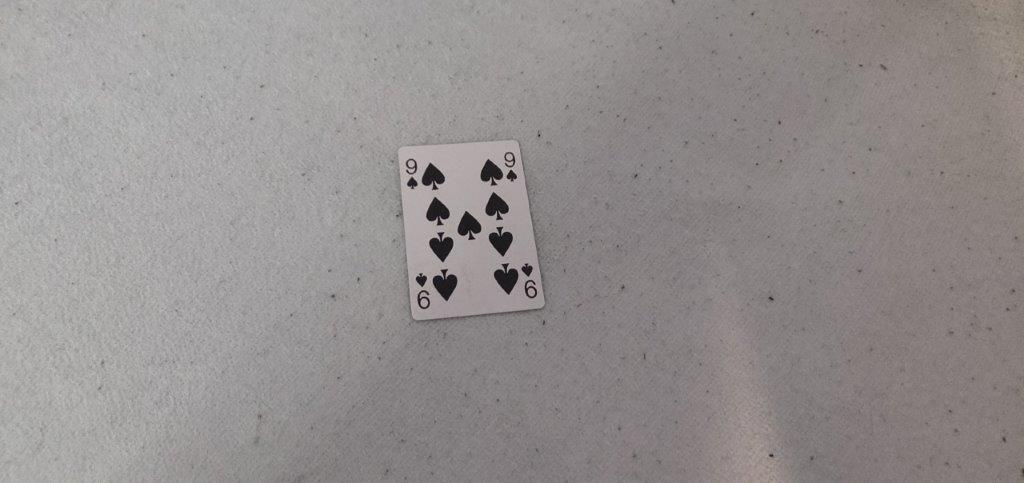9S: (500, 149, 520, 188), (402, 156, 422, 192)
